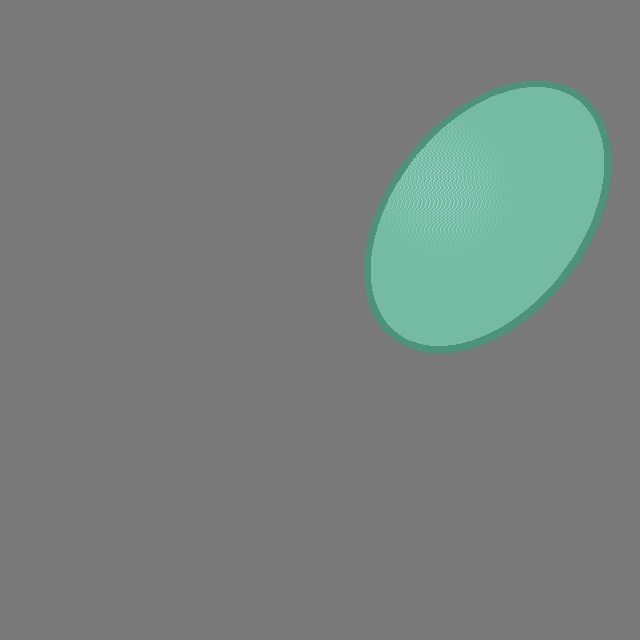lens: (367, 83, 607, 349)
